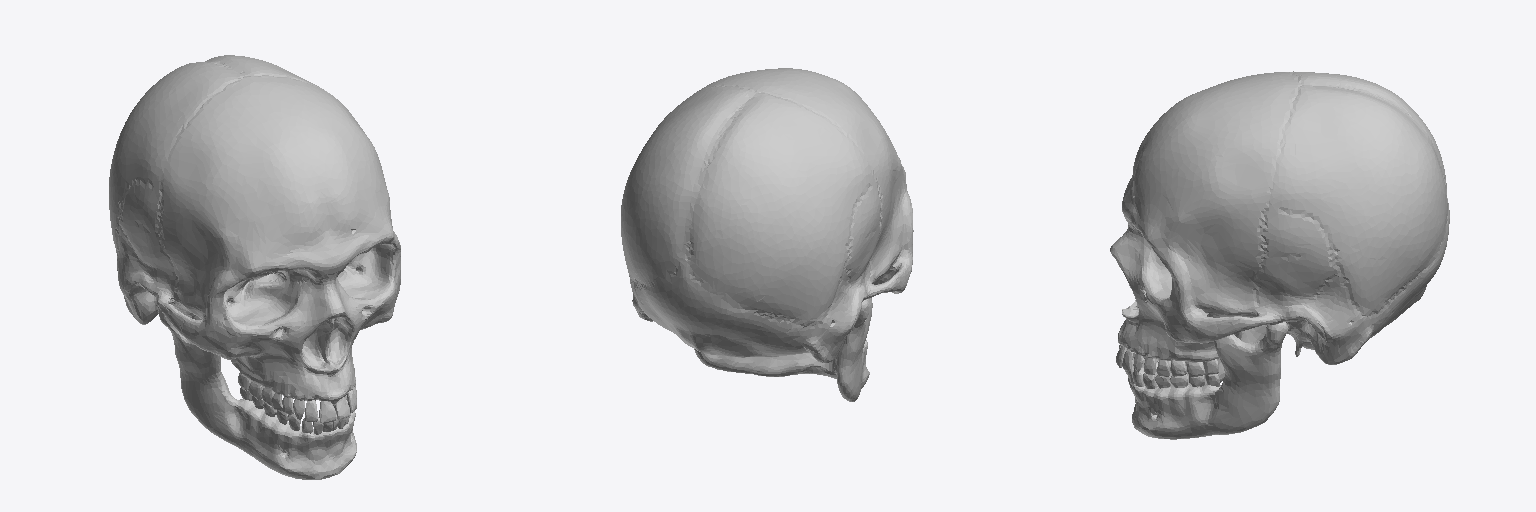
Rendered from skull-nonormals.obj.
The picture shows the model from 3 angles: view 1: azimuth 30°, elevation 25°; view 2: azimuth 150°, elevation 25°; view 3: azimuth 270°, elevation 25°; orthographic projection.
Visible parts, largest first — view 1: Group5732; view 2: Group5732; view 3: Group5732.
Part boxes in pixels (x1,y1,x2,y2): Group5732: (109,55,400,479); Group5732: (621,68,913,401); Group5732: (1110,71,1449,439).
Bounding box in the file's own units: 1.34 × 2 × 1.79.